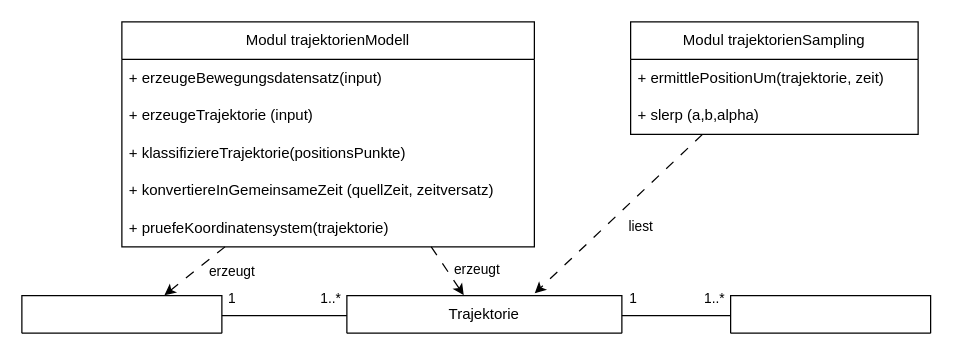
Image size: 953x355. Some labels were removed from this diagram. The centre of each missing label's shape, as x and y in pixels:
"Bewegungsdatensatz" belongs at (x=121, y=313).
"PositionsPunkt" belongs at (x=830, y=313).
